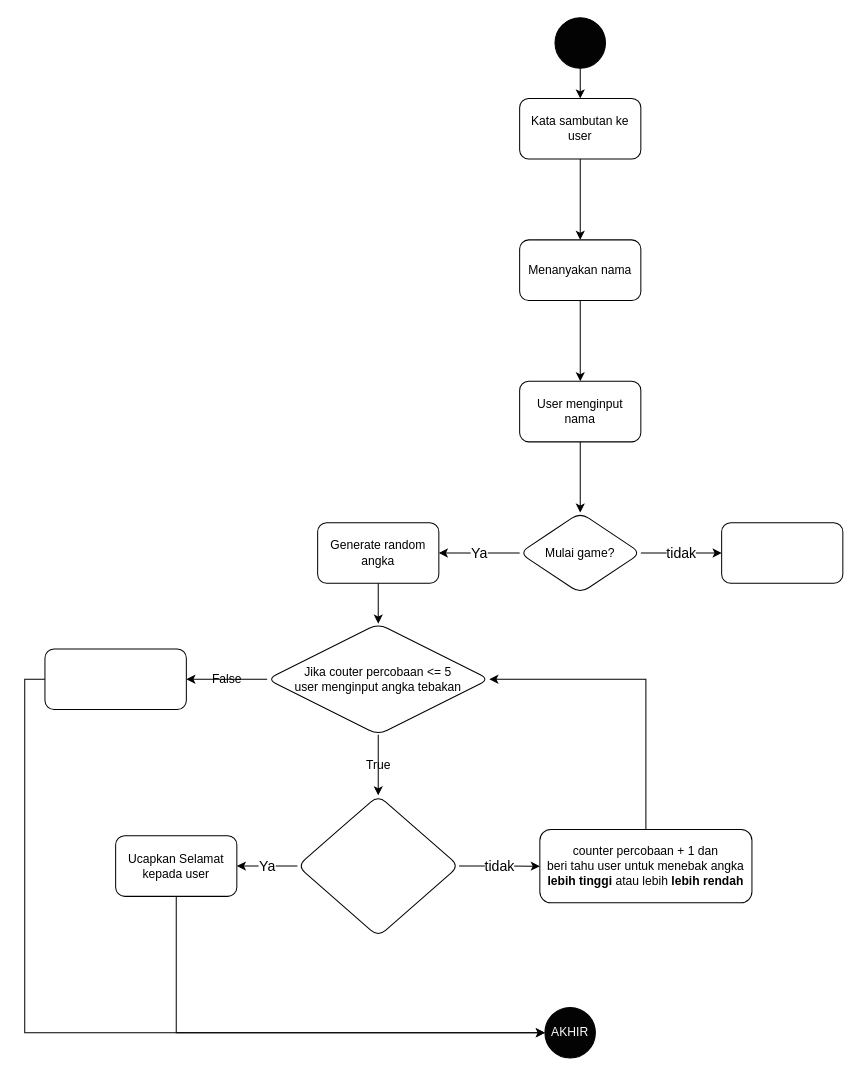
This 861x1076 diagram has some shape labels left out. The shapes that lost their labels are listed below. From the top down, each one's centre as x and y in pixels, then its label:
(x=579, y=42): AWAL
(x=782, y=552): Exit game
(x=115, y=679): Game Over karena sudah melewati batas main (5x)
(x=377, y=865): mencocokkan angka user dan angka acak
